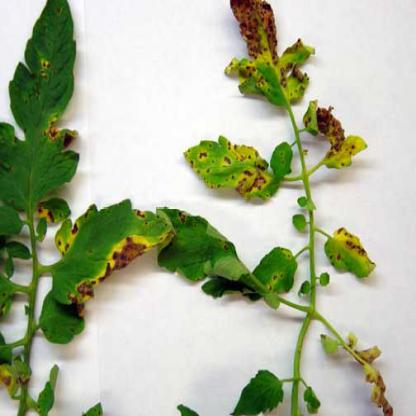tomato septoria leaf spot: (49, 183, 173, 325), (219, 1, 314, 100), (179, 126, 279, 200), (324, 224, 382, 295), (246, 240, 295, 310), (323, 127, 371, 174)
